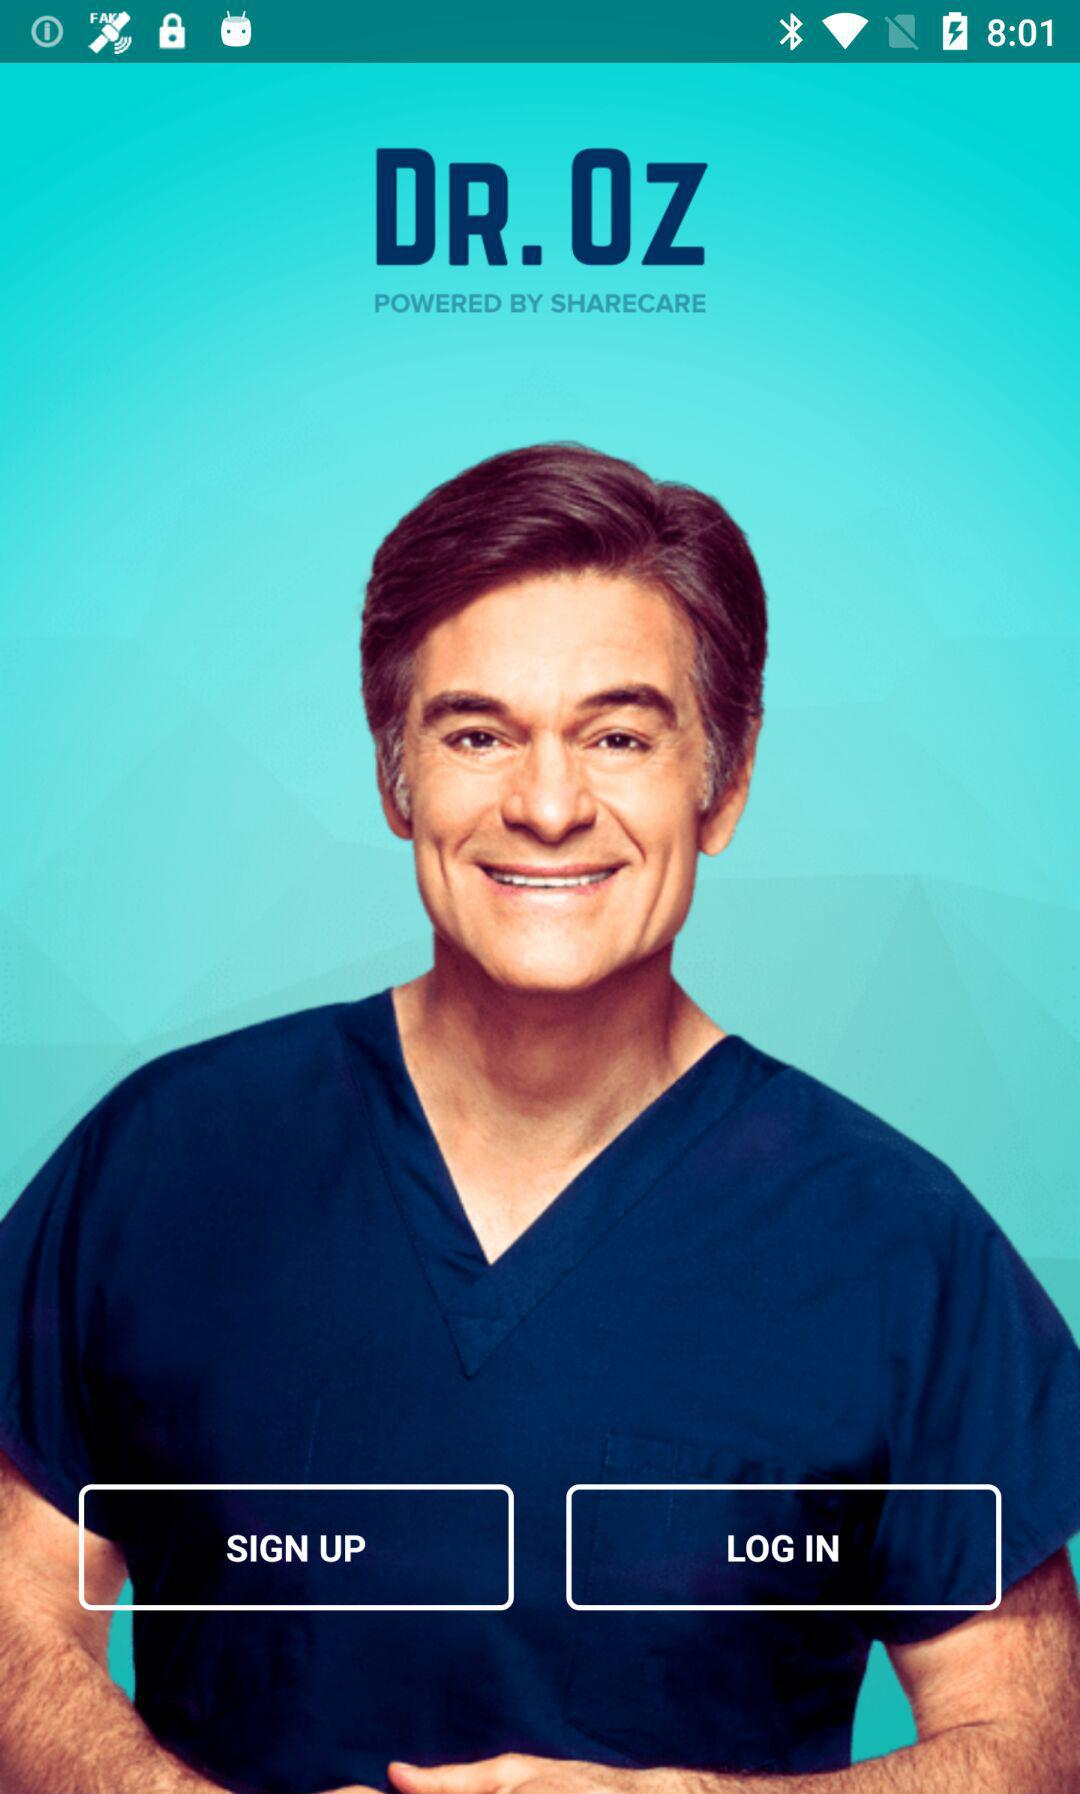BackgroundImage: (1, 64, 1079, 1794)
Text: (373, 147, 708, 270), (373, 293, 708, 317)
TextButton: (566, 1484, 1002, 1612), (79, 1484, 515, 1612)
UpperTaskBar: (1, 1, 1080, 64)
